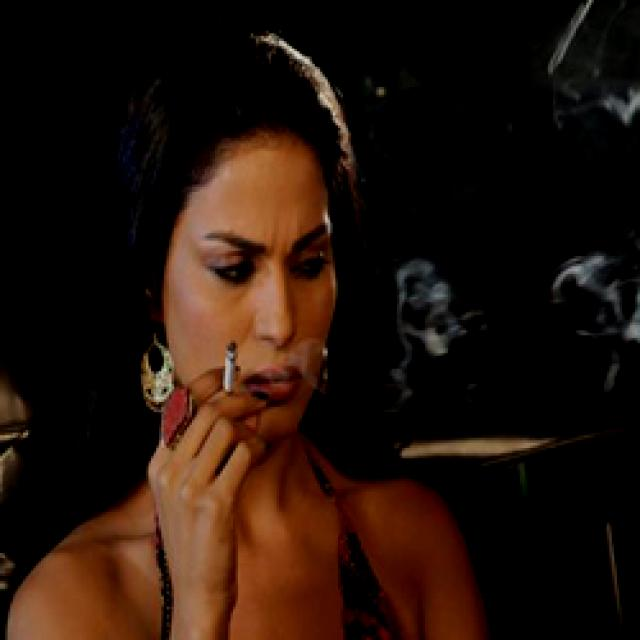Smooking: (217, 336, 244, 387)
